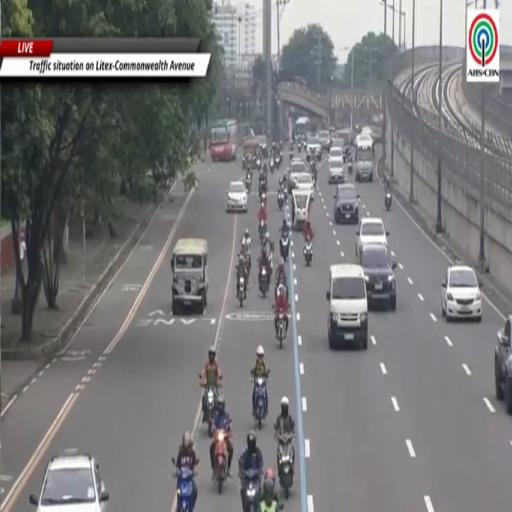bus: (210, 120, 238, 162), (355, 136, 374, 181), (294, 117, 310, 140)
car: (30, 451, 109, 511), (327, 264, 368, 349), (359, 244, 396, 311), (441, 264, 482, 321), (495, 315, 511, 414), (356, 218, 389, 258), (334, 184, 359, 223), (288, 160, 307, 194), (227, 182, 248, 212), (295, 173, 314, 200), (328, 159, 346, 183), (306, 137, 322, 160), (318, 131, 331, 151), (328, 147, 343, 163), (331, 138, 345, 149), (361, 126, 373, 137), (291, 157, 303, 164)
jeepney: (171, 238, 208, 314), (292, 189, 311, 231), (243, 138, 259, 169)
motorcycle: (277, 434, 294, 499), (174, 468, 194, 511), (215, 429, 228, 493), (243, 470, 261, 511), (203, 388, 217, 437), (254, 377, 267, 429), (277, 313, 287, 348), (259, 266, 269, 297), (280, 235, 290, 261), (238, 277, 245, 307), (304, 240, 312, 266), (259, 219, 266, 244), (245, 249, 251, 276), (384, 191, 392, 211), (277, 190, 284, 211), (245, 173, 252, 193), (310, 166, 317, 186), (259, 182, 266, 200), (268, 251, 273, 273), (270, 155, 275, 172), (276, 152, 281, 169), (260, 192, 266, 206), (348, 159, 353, 174), (256, 159, 261, 170), (298, 142, 302, 153), (289, 149, 293, 159), (303, 139, 306, 150)
